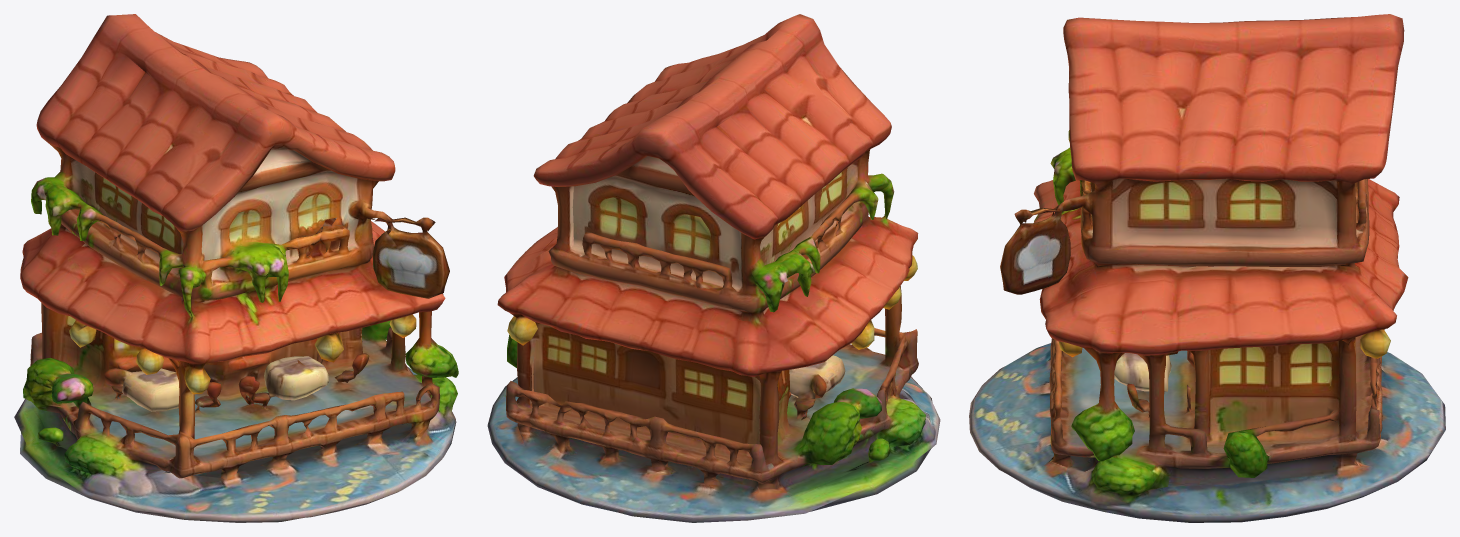
The model's file is 14-restaurant.glb.
3 views of the same model, side by side, from view 1: azimuth 30°, elevation 25°; view 2: azimuth 150°, elevation 25°; view 3: azimuth 270°, elevation 25° (orthographic). The views are drawn at different scales.
Parts seen in each view (by area): view 1: tripo_node_64b42dc3-c762-465a-8111-2a0cd1fee7af; view 2: tripo_node_64b42dc3-c762-465a-8111-2a0cd1fee7af; view 3: tripo_node_64b42dc3-c762-465a-8111-2a0cd1fee7af.
Boxes of the visible parts, x1,y1,x2,y2 form: tripo_node_64b42dc3-c762-465a-8111-2a0cd1fee7af: (14,14,458,522); tripo_node_64b42dc3-c762-465a-8111-2a0cd1fee7af: (487,14,940,522); tripo_node_64b42dc3-c762-465a-8111-2a0cd1fee7af: (969,14,1445,522).
Bounding box in the file's own units: 0.9712 × 0.8791 × 0.9712.
Materials: 1 (1 with a texture image).
